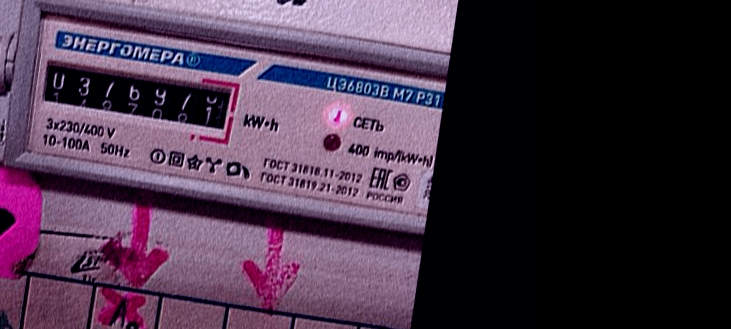0: (49, 68, 68, 91)
1: (201, 104, 215, 127)
3: (75, 74, 92, 99)
6: (127, 79, 143, 102)
7: (101, 75, 117, 100), (177, 88, 193, 112)
9: (151, 84, 167, 108)
screen: (32, 52, 243, 149)
